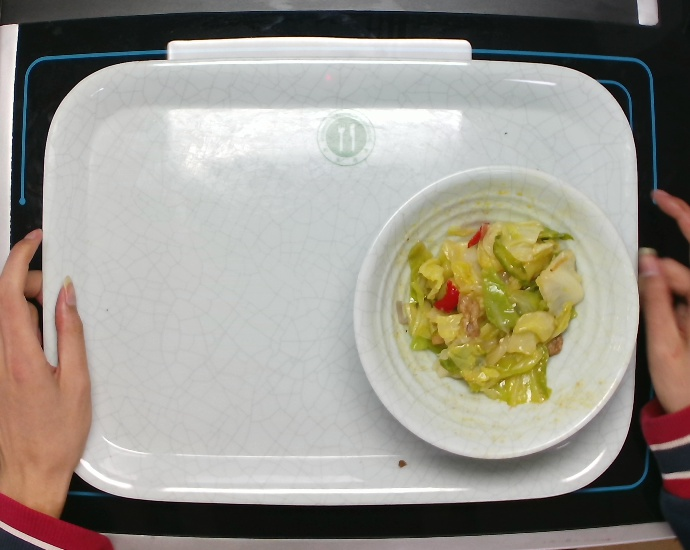JYsf-Xiao_Tang_Wan: (346, 159, 646, 467)
